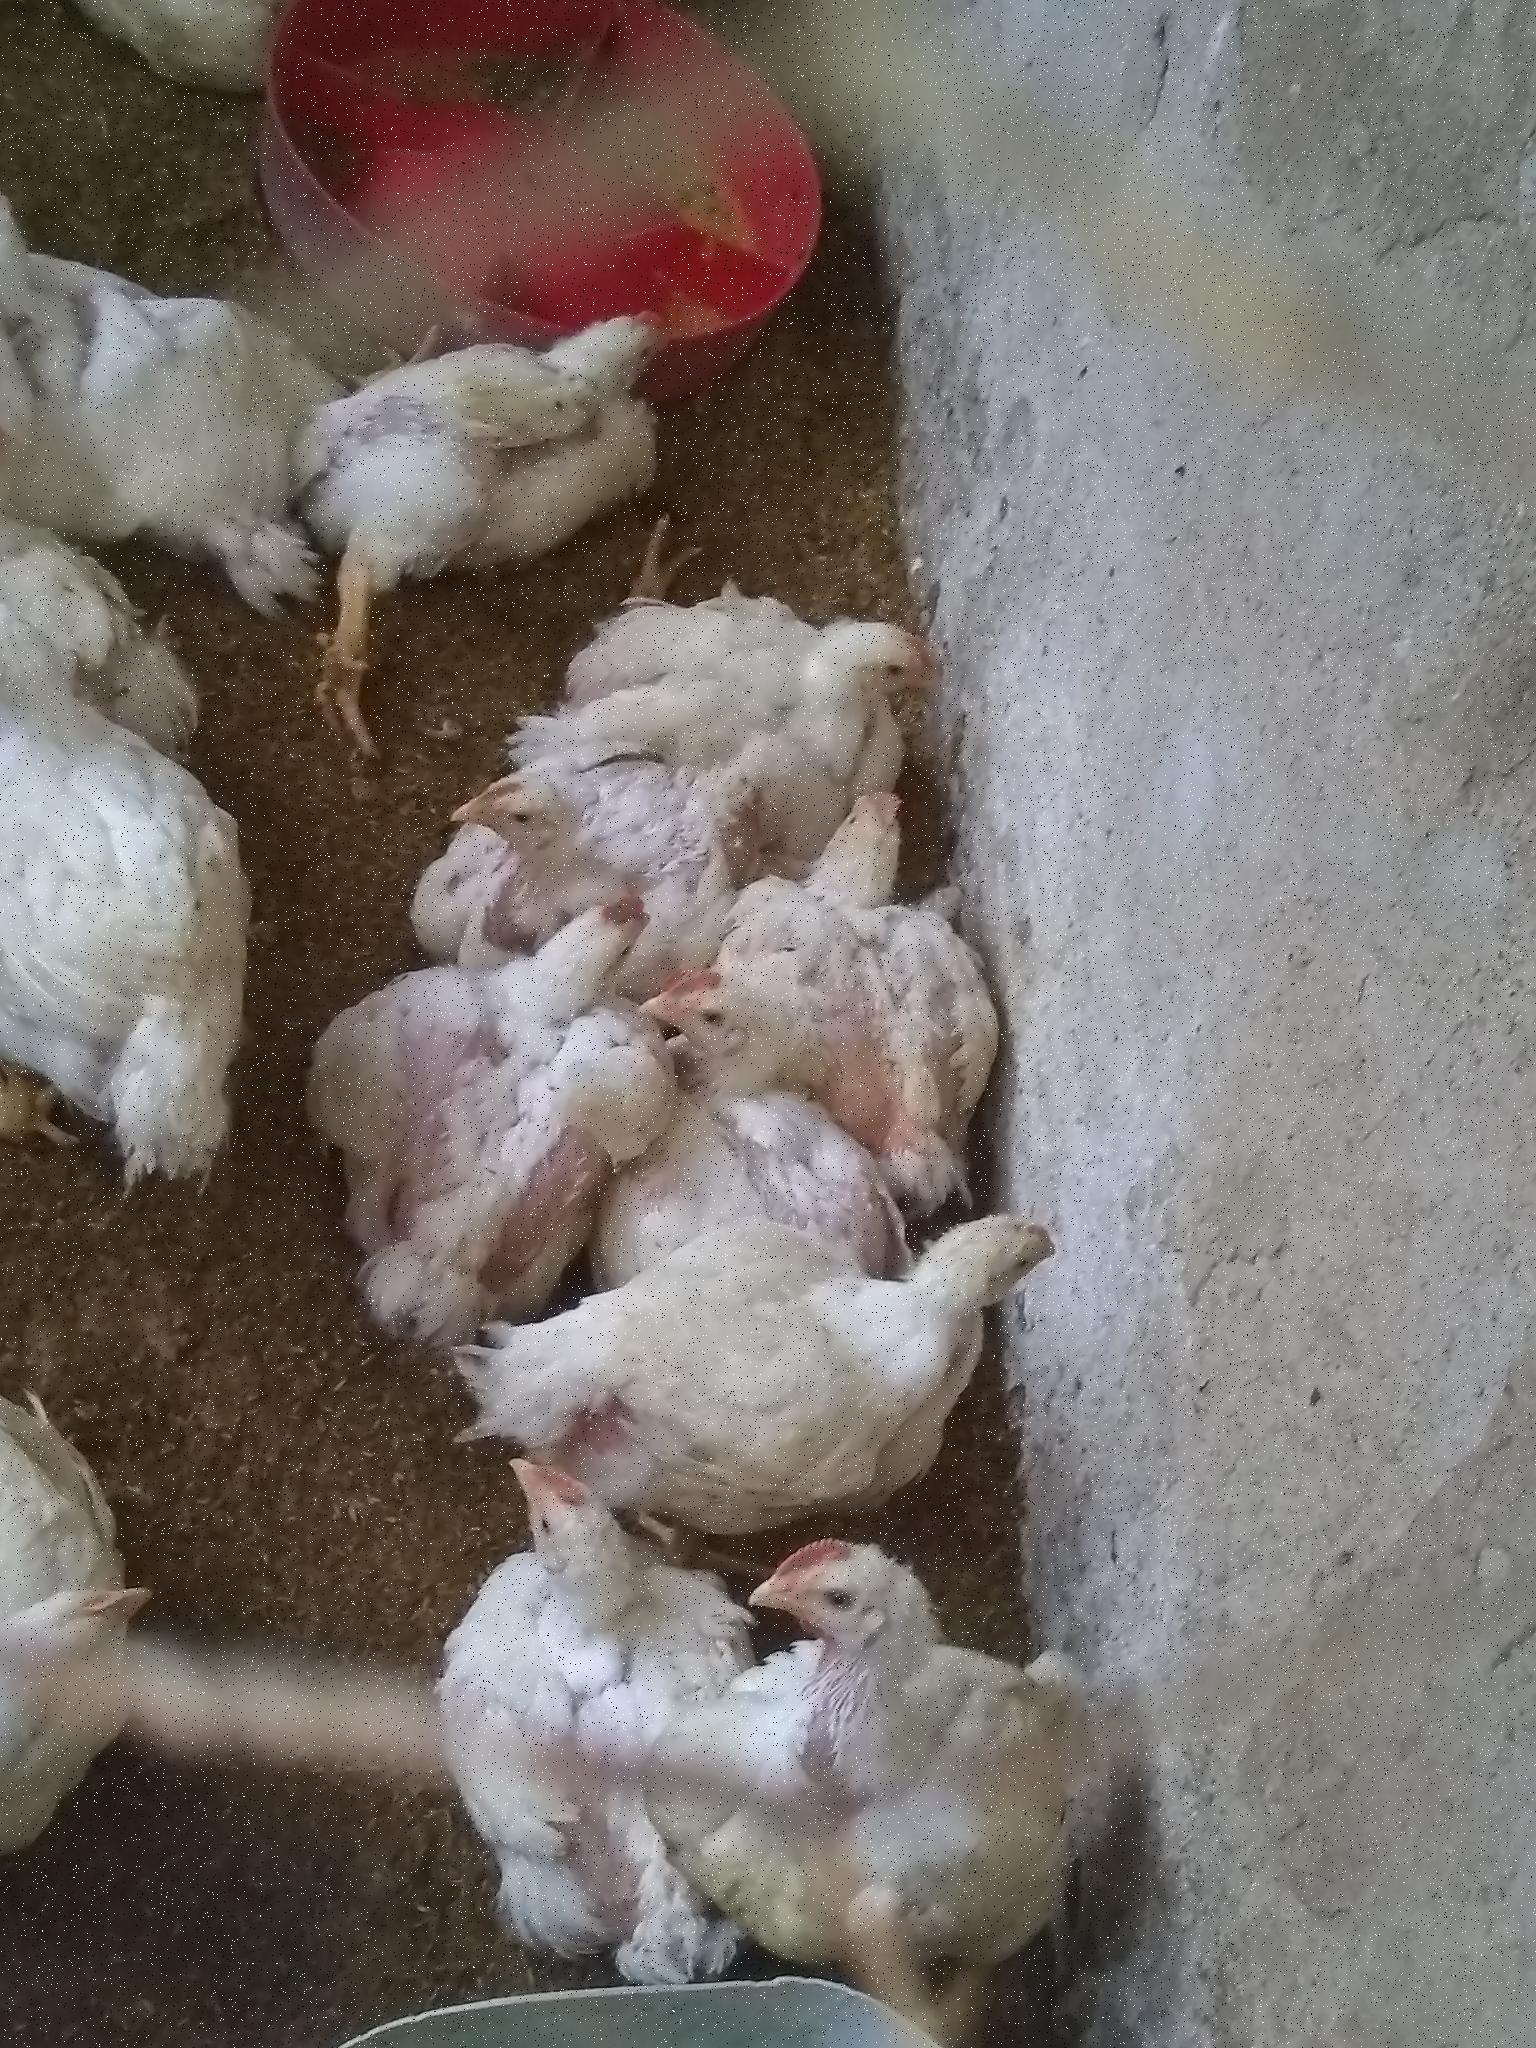Pollos: (360, 1438, 765, 1887), (733, 1529, 1137, 1963), (541, 1177, 1065, 1492), (2, 656, 261, 1235), (329, 261, 679, 639), (37, 176, 307, 598), (2, 1388, 211, 1900), (347, 898, 637, 1213), (599, 571, 949, 764), (662, 979, 989, 1159), (765, 764, 975, 1001), (373, 769, 687, 885)
